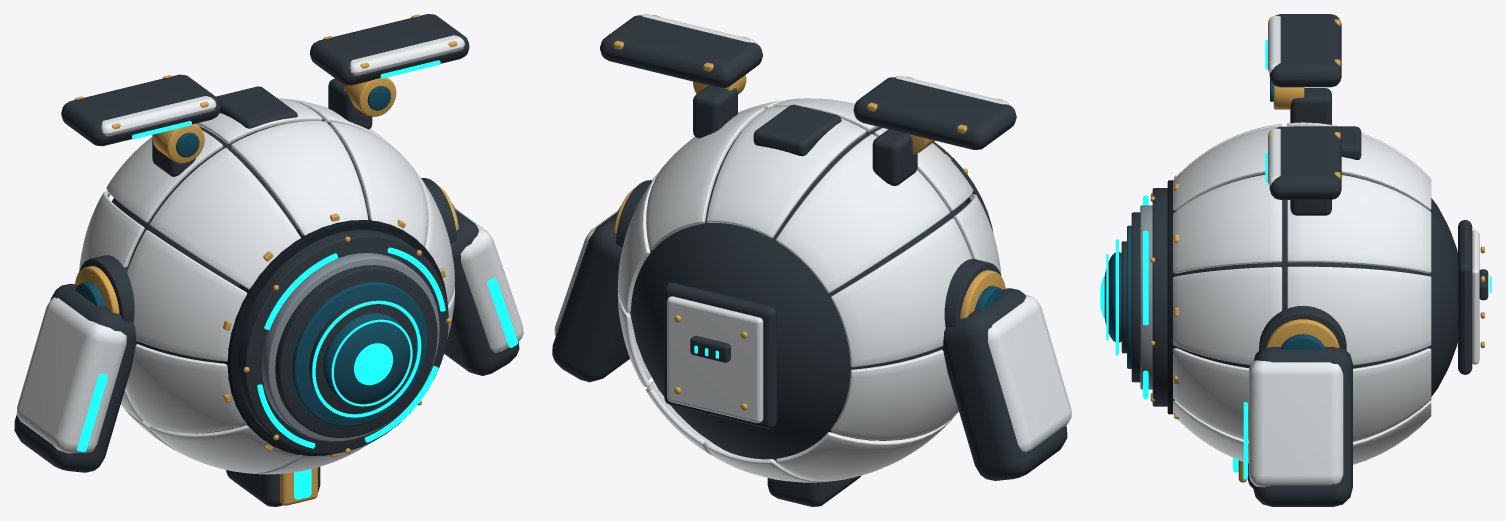
Rendered from orbi-scout.glb.
The picture shows the model from 3 angles, left to right: view 1: azimuth 30°, elevation 25°; view 2: azimuth 150°, elevation 25°; view 3: azimuth 270°, elevation 25°; orthographic projection. The views are drawn at different scales.
Visible parts, largest first — view 1: ceramic segmented panel 3 0, side ceramic fin, ceramic segmented panel 4 0, ceramic segmented panel 2 0, sensor housing, ceramic segmented panel 5 0, inner black ring, ceramic segmented panel 1 0, cyan glass, upper stabilizer graphite.001, upper stabilizer graphite, side fin frame (+35 smaller); view 2: internal pressure chassis, ceramic segmented panel 3 1, ceramic segmented panel 4 1, side fin frame, rear ceramic panel, ceramic segmented panel 2 1, ceramic segmented panel 5 1, side ceramic fin, side fin frame.001, upper stabilizer graphite.001, upper stabilizer graphite, ceramic segmented panel 1 1 (+17 smaller); view 3: side ceramic fin.001, ceramic segmented panel 0 1, ceramic segmented panel 1 1, ceramic segmented panel 0 0, ceramic segmented panel 1 0, internal pressure chassis, ceramic segmented panel 9 1, ceramic segmented panel 9 0, upper stabilizer graphite, upper stabilizer graphite.001, side fin frame.001, ceramic segmented panel 2 0 (+23 smaller).
Boxes of the visible parts, <box> form: ceramic segmented panel 3 0: <box>149,147,300,289</box>; side ceramic fin: <box>16,297,126,453</box>; ceramic segmented panel 4 0: <box>127,230,247,361</box>; ceramic segmented panel 2 0: <box>231,121,368,235</box>; sensor housing: <box>237,229,448,454</box>; ceramic segmented panel 5 0: <box>126,344,246,433</box>; inner black ring: <box>275,265,437,437</box>; ceramic segmented panel 1 0: <box>329,122,427,245</box>; cyan glass: <box>292,282,427,426</box>; upper stabilizer graphite.001: <box>310,14,469,85</box>; upper stabilizer graphite: <box>61,74,220,146</box>; side fin frame: <box>14,283,138,472</box>; internal pressure chassis: <box>630,127,967,460</box>; ceramic segmented panel 3 1: <box>776,134,949,292</box>; ceramic segmented panel 4 1: <box>831,218,972,367</box>; side fin frame: <box>940,288,1067,480</box>; rear ceramic panel: <box>667,296,763,422</box>; ceramic segmented panel 2 1: <box>706,106,866,238</box>; ceramic segmented panel 5 1: <box>831,349,958,440</box>; side ceramic fin: <box>987,295,1071,451</box>; side fin frame.001: <box>552,212,629,382</box>; upper stabilizer graphite.001: <box>600,15,762,88</box>; upper stabilizer graphite: <box>853,77,1016,149</box>; ceramic segmented panel 1 1: <box>646,107,764,250</box>; side ceramic fin.001: <box>1248,360,1343,487</box>; ceramic segmented panel 0 1: <box>1287,266,1431,365</box>; ceramic segmented panel 1 1: <box>1287,175,1431,273</box>; ceramic segmented panel 0 0: <box>1173,267,1282,364</box>; ceramic segmented panel 1 0: <box>1173,174,1282,273</box>; internal pressure chassis: <box>1188,174,1457,396</box>; ceramic segmented panel 9 1: <box>1353,348,1431,441</box>; ceramic segmented panel 9 0: <box>1173,348,1249,440</box>; upper stabilizer graphite: <box>1269,14,1341,87</box>; upper stabilizer graphite.001: <box>1269,126,1341,199</box>; side fin frame.001: <box>1253,347,1352,506</box>; ceramic segmented panel 2 0: <box>1173,125,1281,210</box>.
Size of the model in its own units: 0.9014 by 0.7675 by 0.705.
